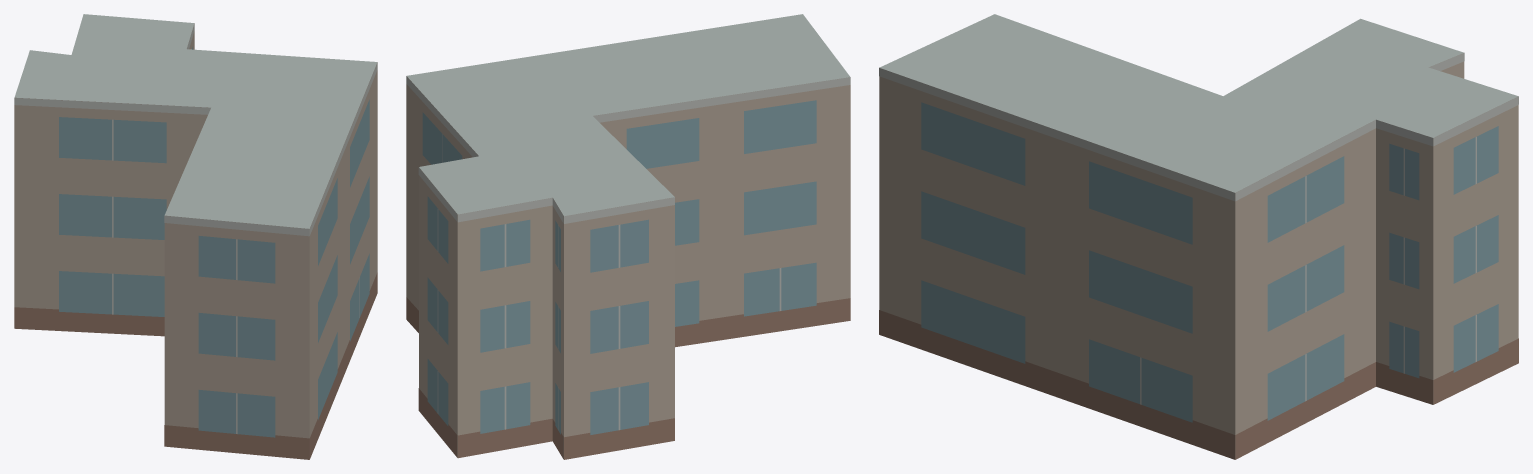
File: survey-upis-32507073.glb
3 views of the same model, side by side, from view 1: azimuth 30°, elevation 25°; view 2: azimuth 150°, elevation 25°; view 3: azimuth 270°, elevation 25° (orthographic). The views are drawn at different scales.
Visible parts, largest first — view 1: survey-upis-32507073.tmp; view 2: survey-upis-32507073.tmp; view 3: survey-upis-32507073.tmp.
Boxes of the visible parts, x1,y1,x2,y2 form: survey-upis-32507073.tmp: (14,14,377,459); survey-upis-32507073.tmp: (406,14,850,459); survey-upis-32507073.tmp: (879,14,1518,459).
Size of the model in its own units: 10.93 by 7.6 by 16.51.
